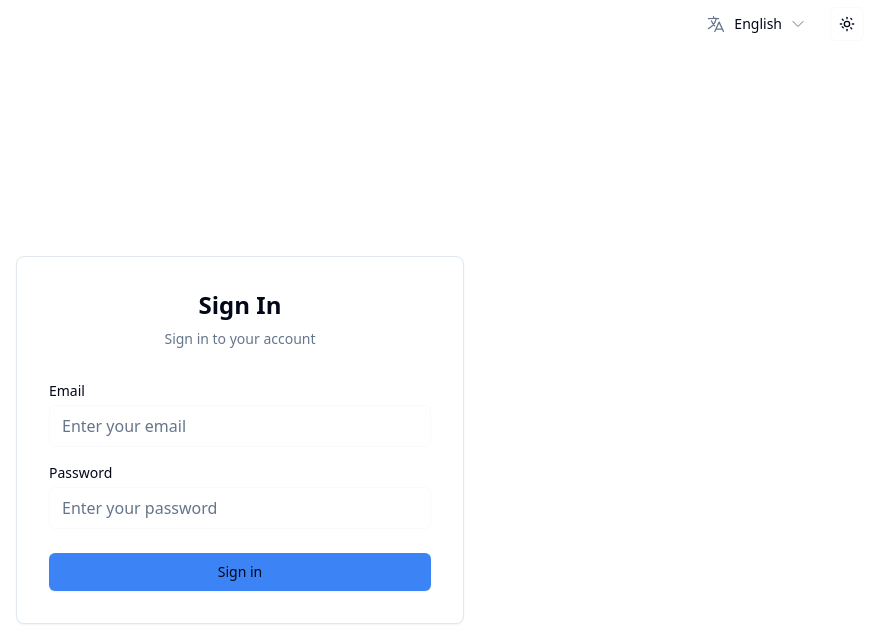
Test case: LoginPage › form submission › should show loading state during submission
Step 1. Type "user@example.com" into the field labelled "Email" → x=240, y=426, box x1=49 y1=405 x2=431 y2=447
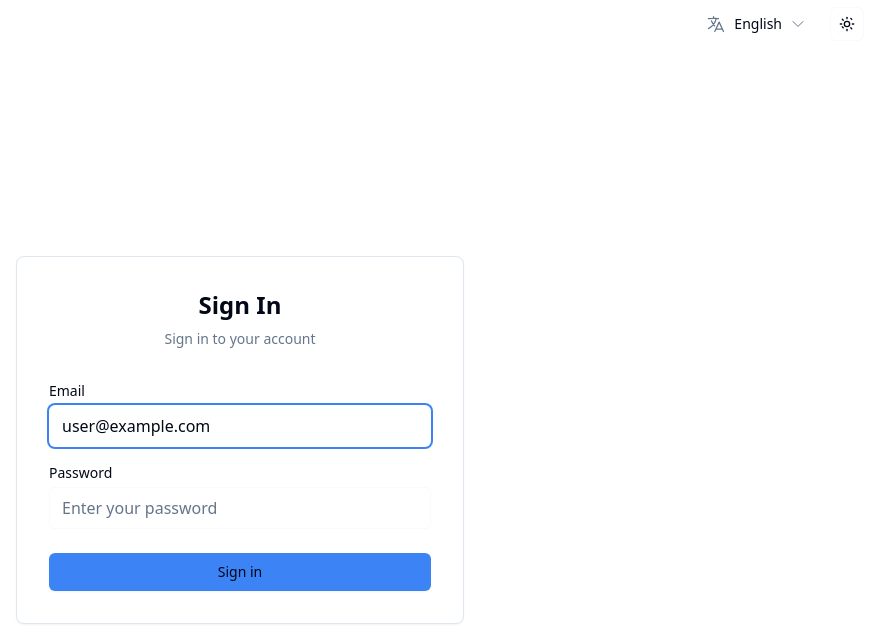
Step 2. Type "password123" into the password field labelled "Password" → x=240, y=508, box x1=49 y1=487 x2=431 y2=529
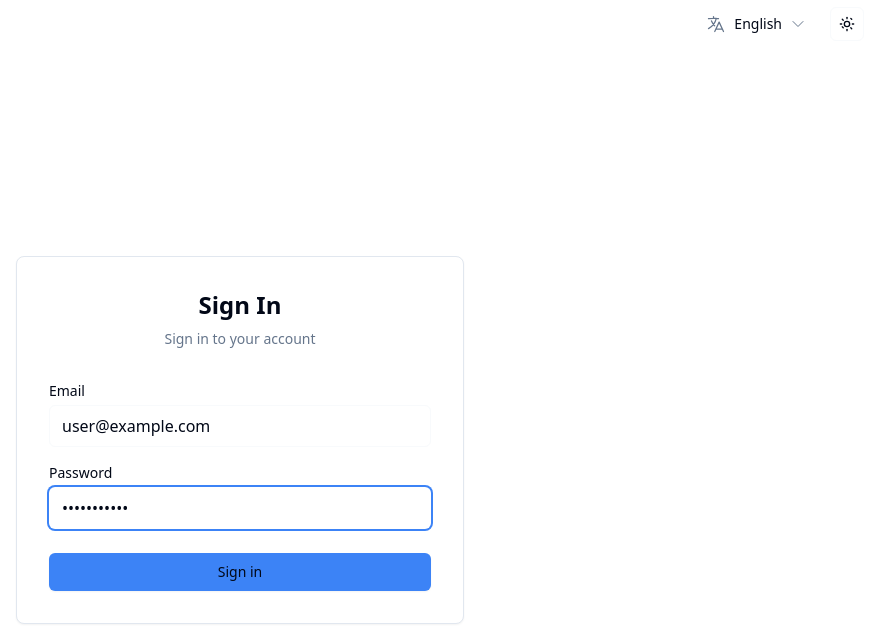
Step 3. Click the button "Sign in" → x=240, y=572, box x1=49 y1=553 x2=431 y2=591
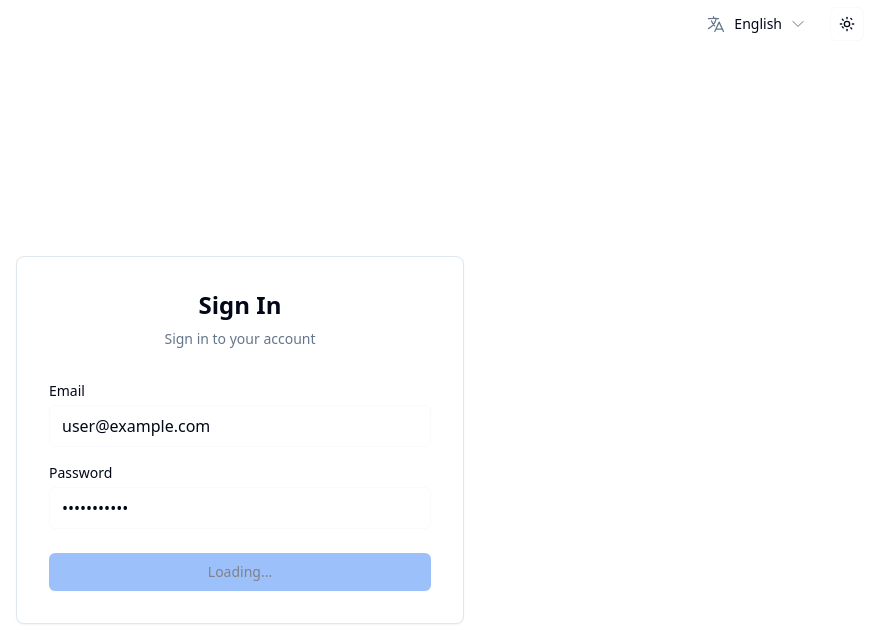
Now the button "Loading..." is disabled, box x1=49 y1=553 x2=431 y2=591
